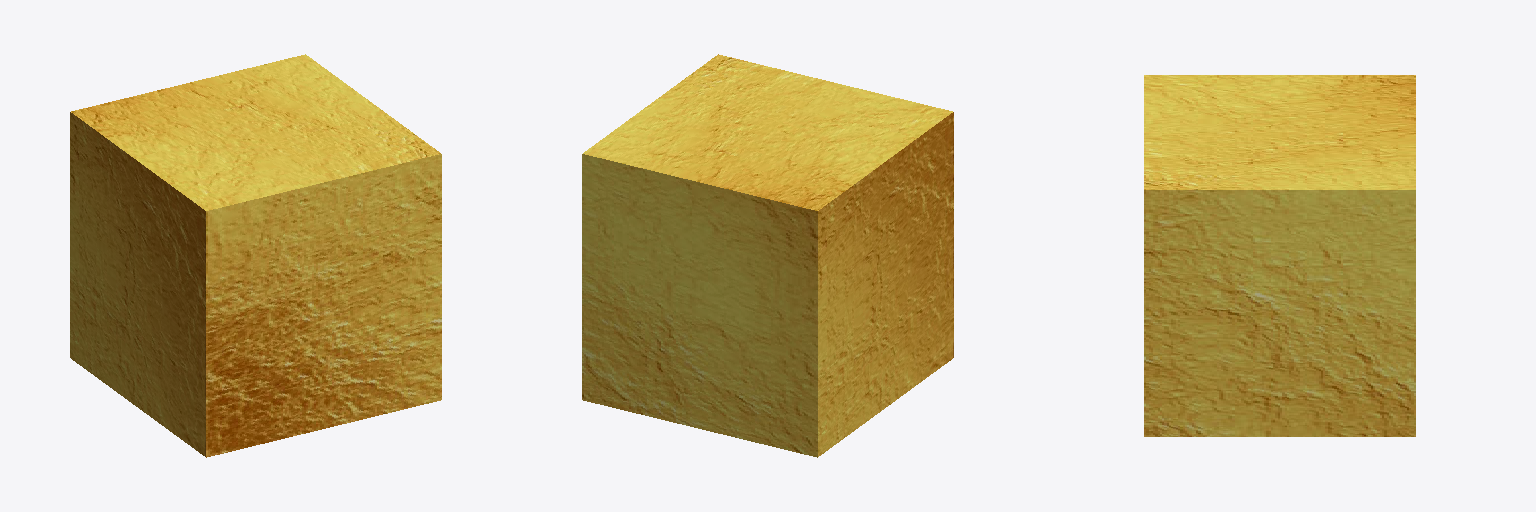
3 views of the same model, side by side, from view 1: azimuth 30°, elevation 25°; view 2: azimuth 150°, elevation 25°; view 3: azimuth 270°, elevation 25° (orthographic).
Visible parts, largest first — view 1: Cube; view 2: Cube; view 3: Cube.
Part boxes in pixels (bbox=[...]): Cube: bbox=[70, 54, 441, 457]; Cube: bbox=[582, 54, 953, 457]; Cube: bbox=[1144, 75, 1415, 436].
Size of the model in its own units: 2 by 2 by 2.
Materials: 1 (1 with a texture image).